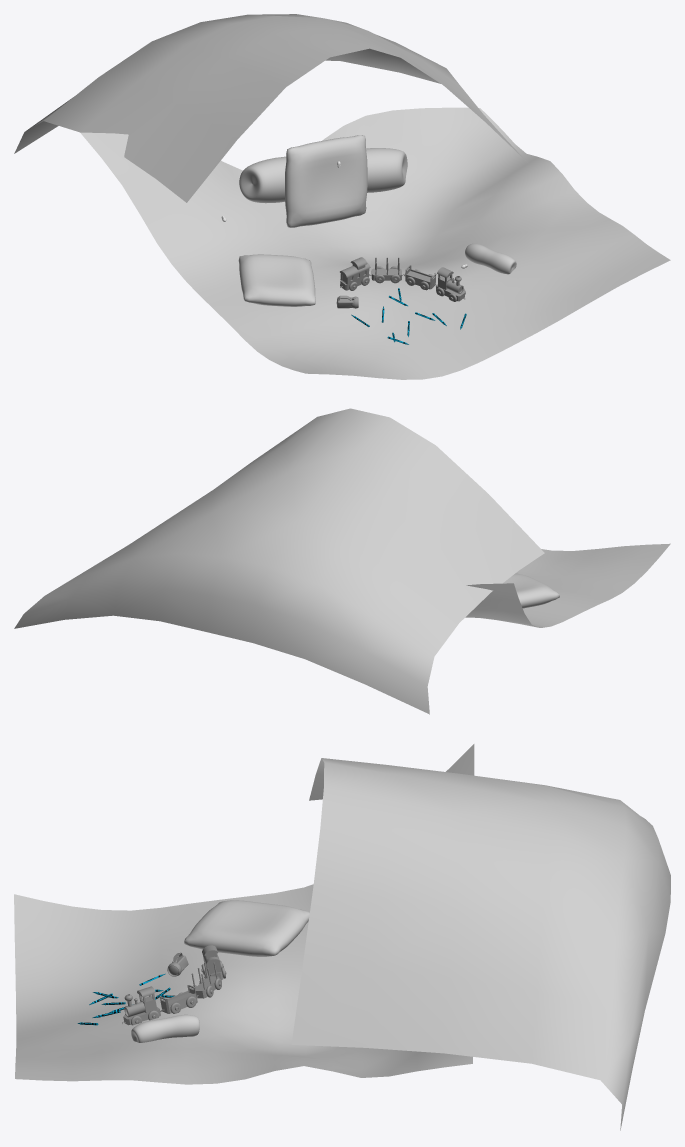
The model's file is Menu_Background_2.FBX.
The picture shows the model from 3 angles, top to bottom: view 1: azimuth 30°, elevation 25°; view 2: azimuth 150°, elevation 25°; view 3: azimuth 270°, elevation 25°; orthographic projection. The views are drawn at different scales.
Visible parts, largest first — view 1: Plane014, Plane015, Box114, Box112, Cylinder145, Cylinder148; view 2: Plane015, Plane014, Box112; view 3: Plane015, Plane014, Box112, Cylinder148.
Boxes of the visible parts, x1=… form: Plane014: x1=80, y1=107, x2=670, y2=379; Plane015: x1=14, y1=14, x2=527, y2=202; Box114: x1=285, y1=135, x2=367, y2=227; Box112: x1=238, y1=254, x2=315, y2=306; Cylinder145: x1=239, y1=148, x2=407, y2=203; Cylinder148: x1=465, y1=243, x2=516, y2=274; Plane015: x1=14, y1=408, x2=544, y2=714; Plane014: x1=465, y1=543, x2=670, y2=627; Box112: x1=503, y1=573, x2=559, y2=608; Plane015: x1=291, y1=758, x2=670, y2=1130; Plane014: x1=14, y1=744, x2=474, y2=1084; Box112: x1=184, y1=900, x2=309, y2=956; Cylinder148: x1=131, y1=1014, x2=199, y2=1042.
Bounding box in the file's own units: 10362 × 4959 × 11132.
